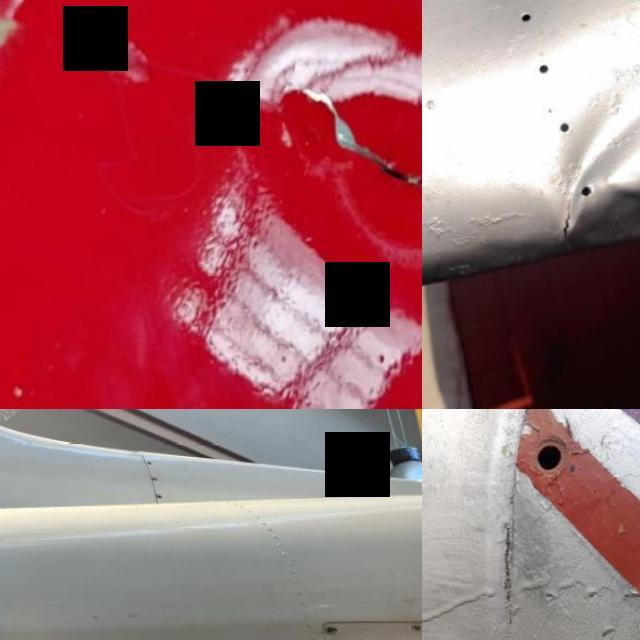Crack: (109, 10, 422, 264), (555, 197, 592, 260)
Dent: (523, 1, 640, 261)
Missing_Fastener: (505, 409, 592, 496), (147, 460, 155, 465)
